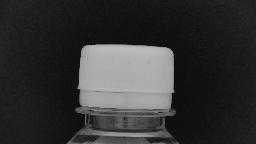Good Cap: (70, 41, 186, 119)
